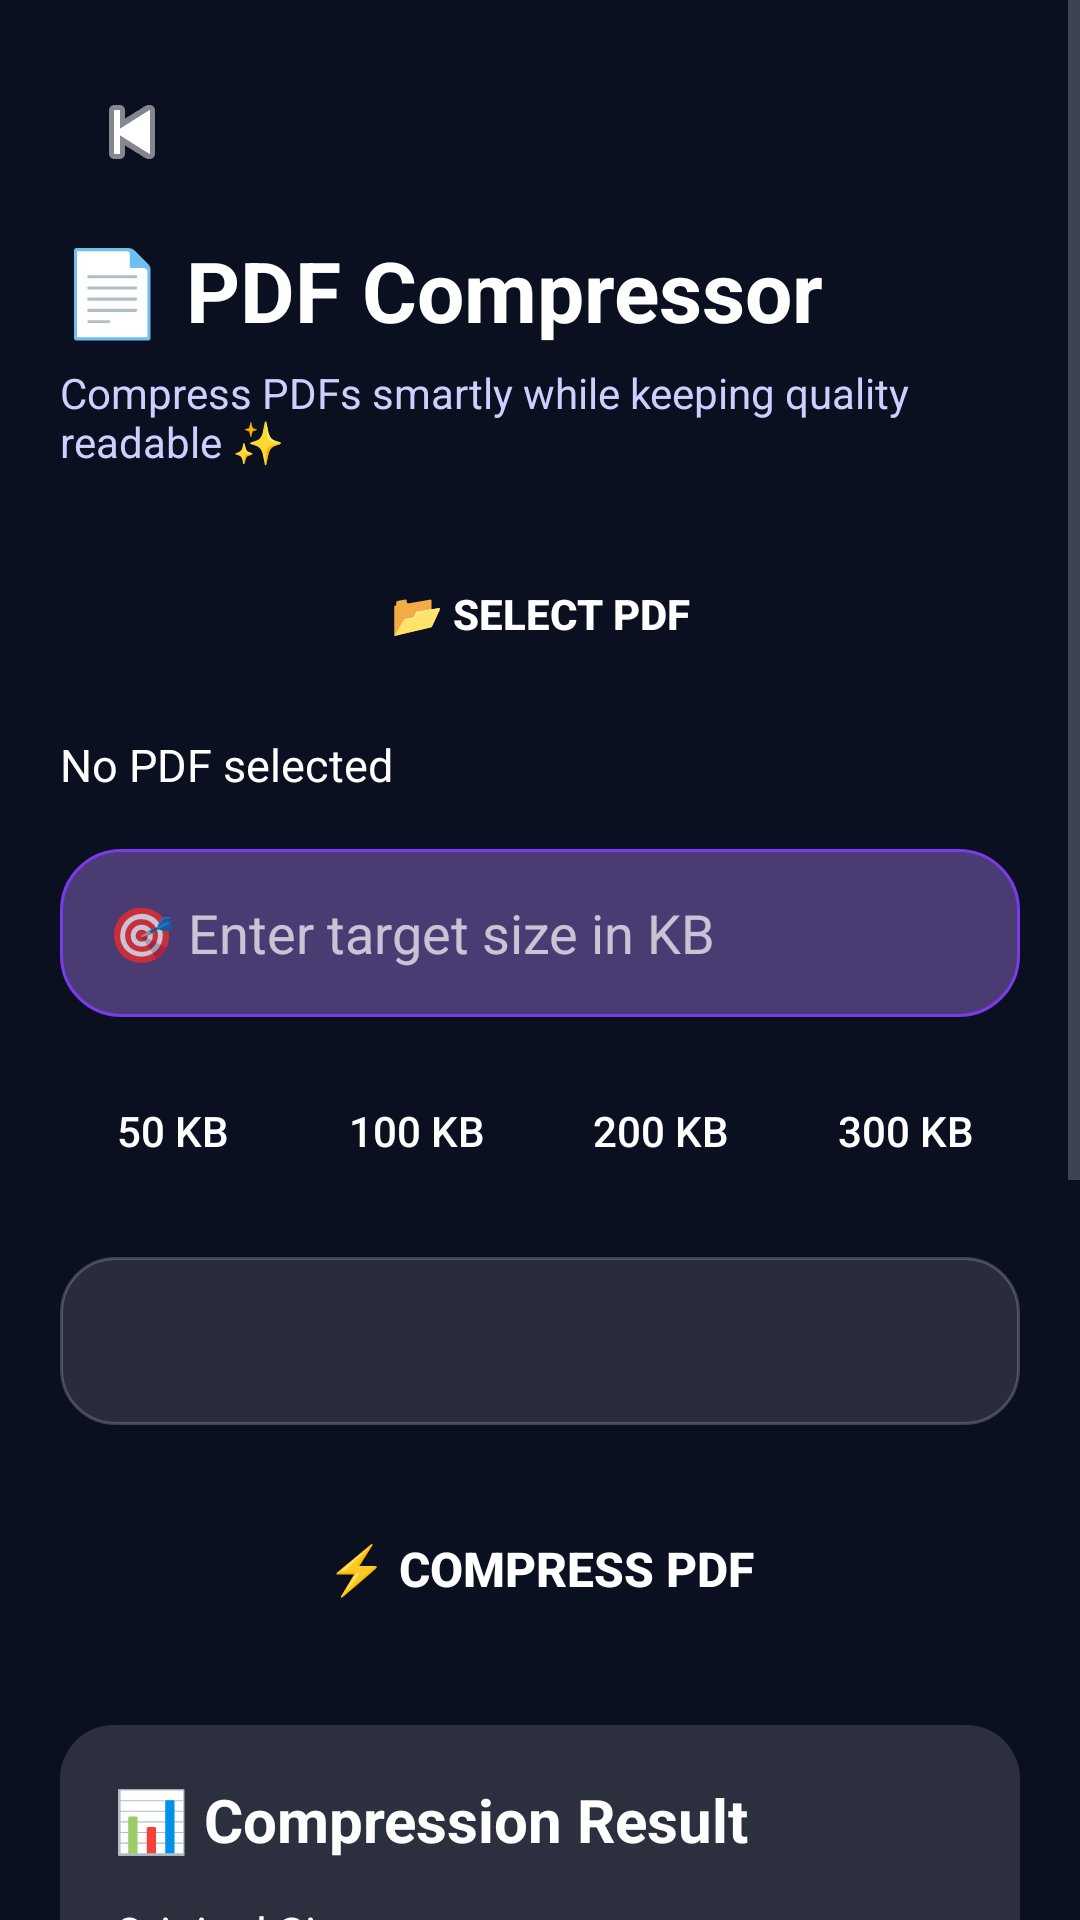

Named icons in this screenshot (1080 × 1920) and their bounding boxes, Rect(x1, y1, x2, y2):
previous: Rect(109, 105, 155, 159)
